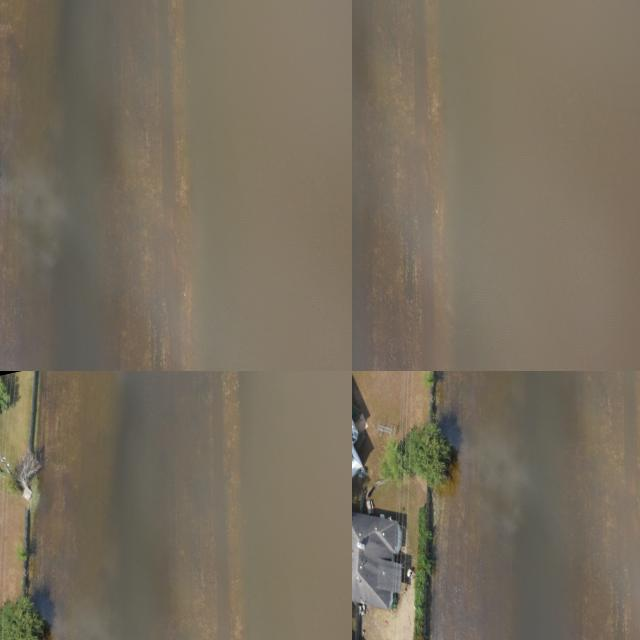fire: (433, 0, 640, 371), (430, 371, 640, 640), (173, 371, 260, 640)
